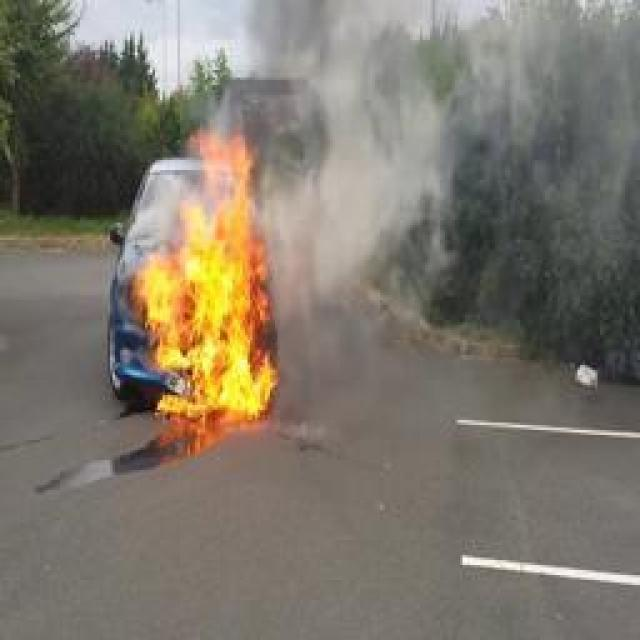Fire: (131, 134, 284, 418)
